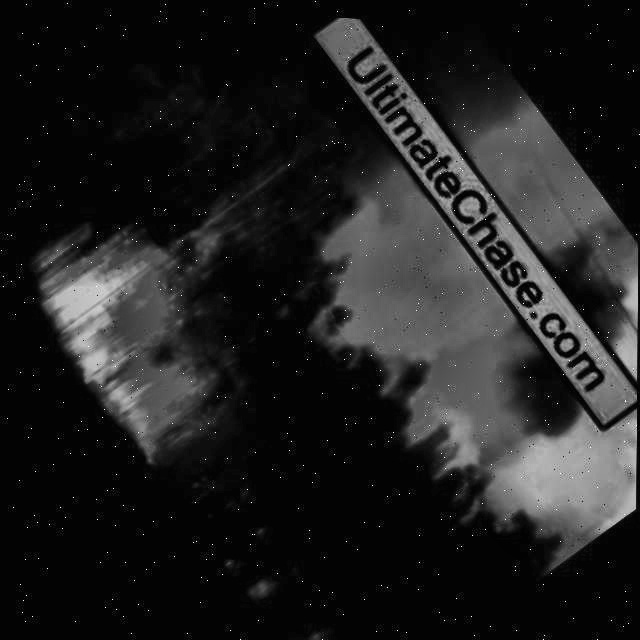Fire: (15, 215, 236, 457), (220, 535, 287, 606), (293, 625, 340, 640)
Smoke: (290, 176, 639, 589), (295, 12, 640, 344)
